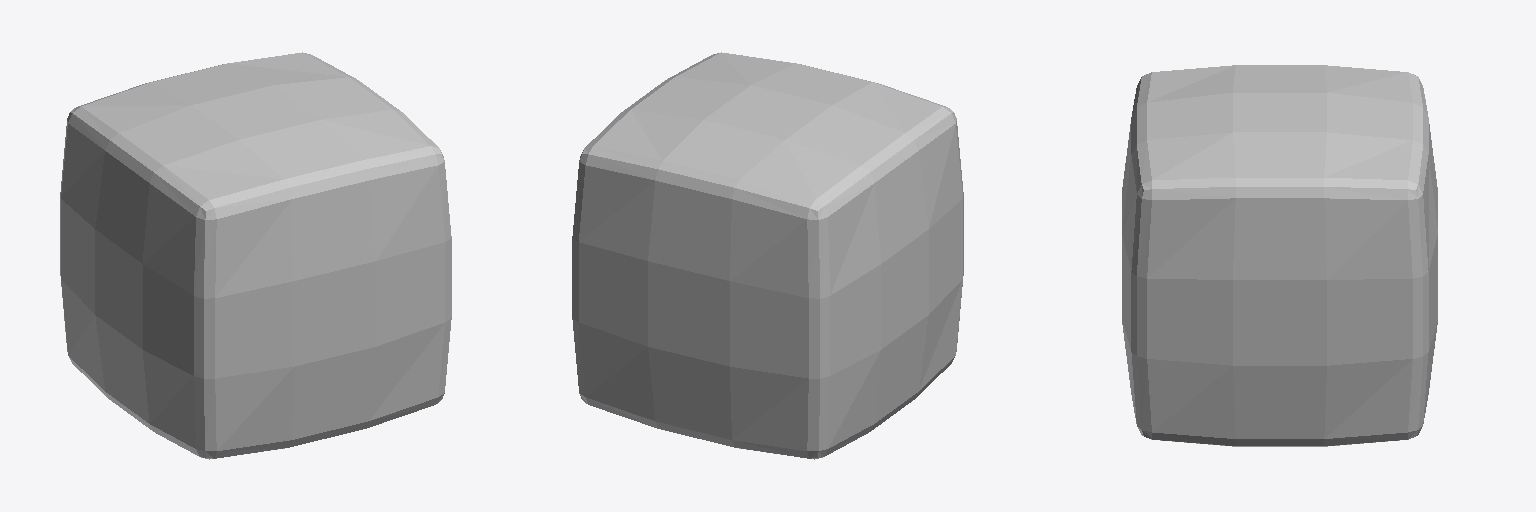
File: block_main.obj
3 views of the same model, side by side, from view 1: azimuth 30°, elevation 25°; view 2: azimuth 150°, elevation 25°; view 3: azimuth 270°, elevation 25° (orthographic).
Parts seen in each view (by area): view 1: Cube_meshId0_name; view 2: Cube_meshId0_name; view 3: Cube_meshId0_name.
Part boxes in pixels (bbox=[...]): Cube_meshId0_name: bbox=[60, 52, 451, 459]; Cube_meshId0_name: bbox=[572, 52, 963, 459]; Cube_meshId0_name: bbox=[1122, 65, 1437, 446].
Bounding box in the file's own units: 2 × 2 × 2.